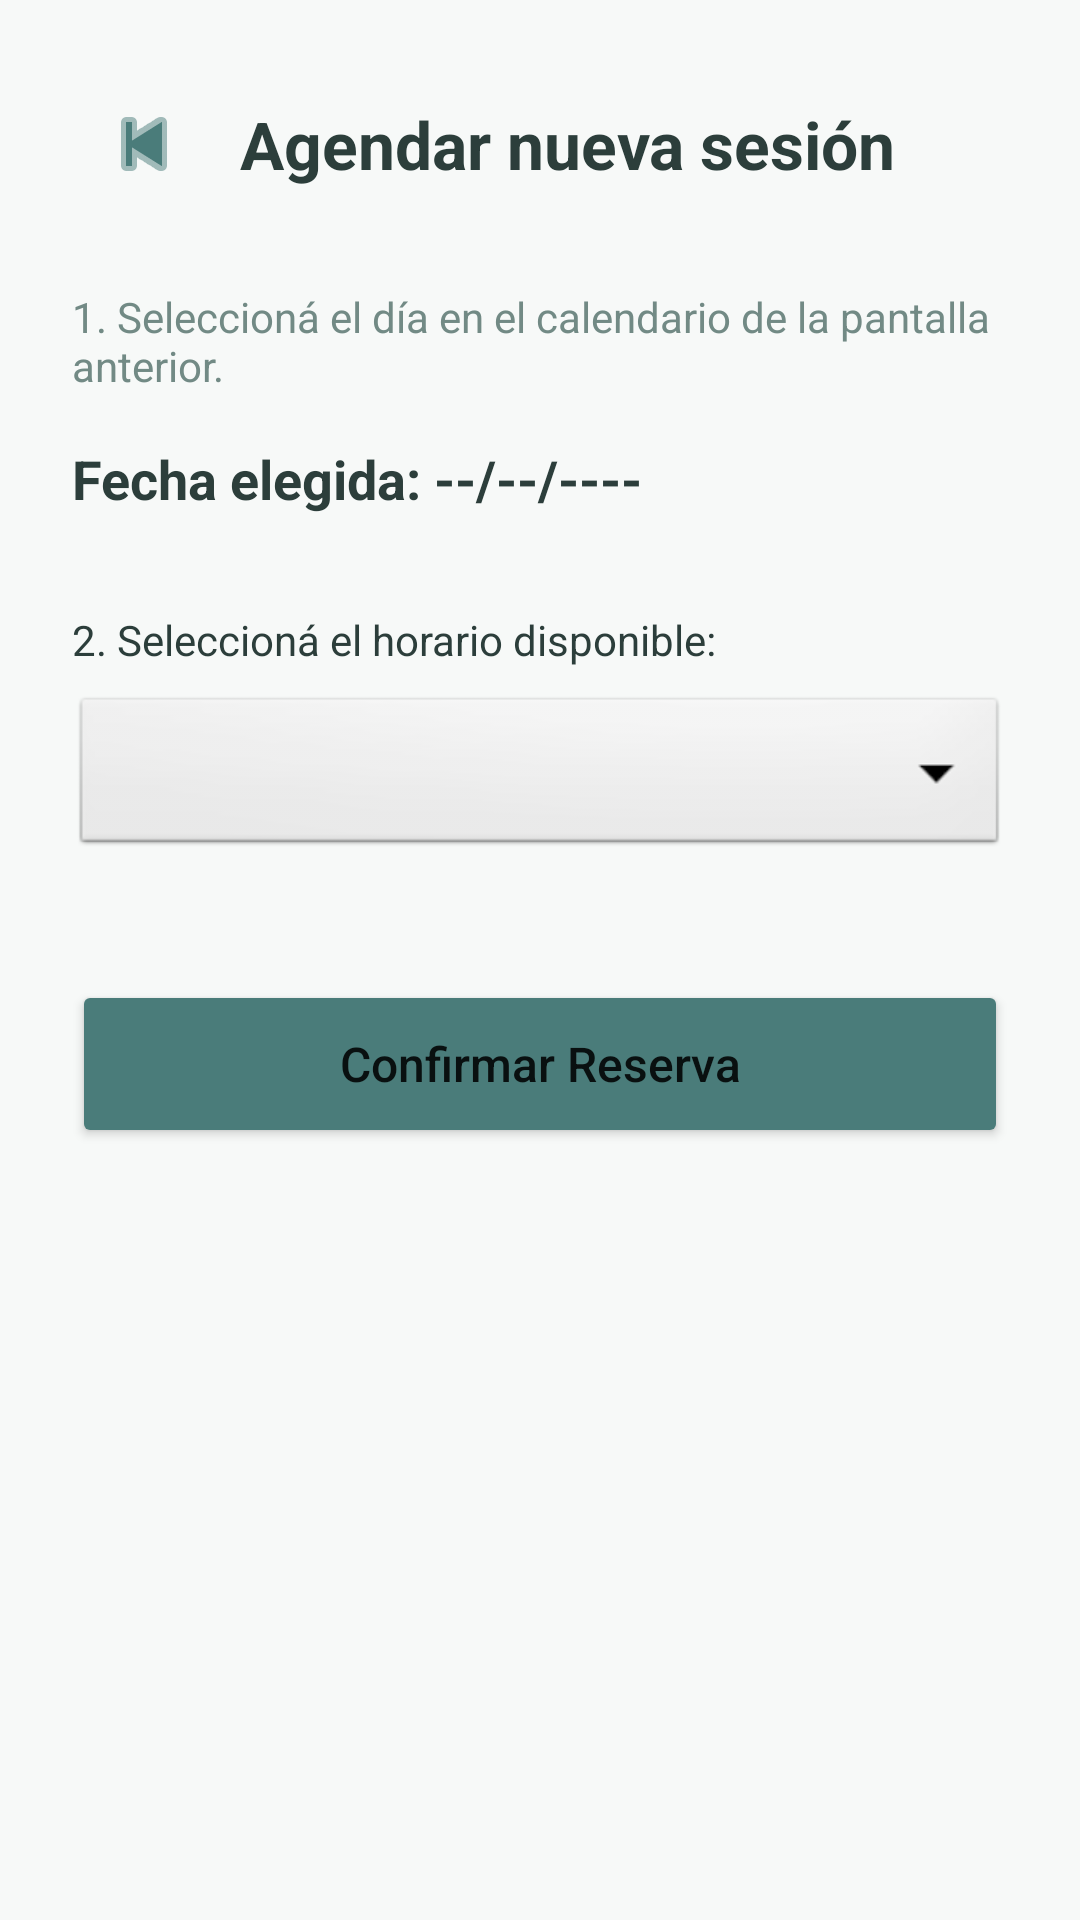

Screen size 1080 × 1920. Icon name, then its box in pixels as (x1, y1, x2, y2):
previous: (121, 117, 167, 171)
